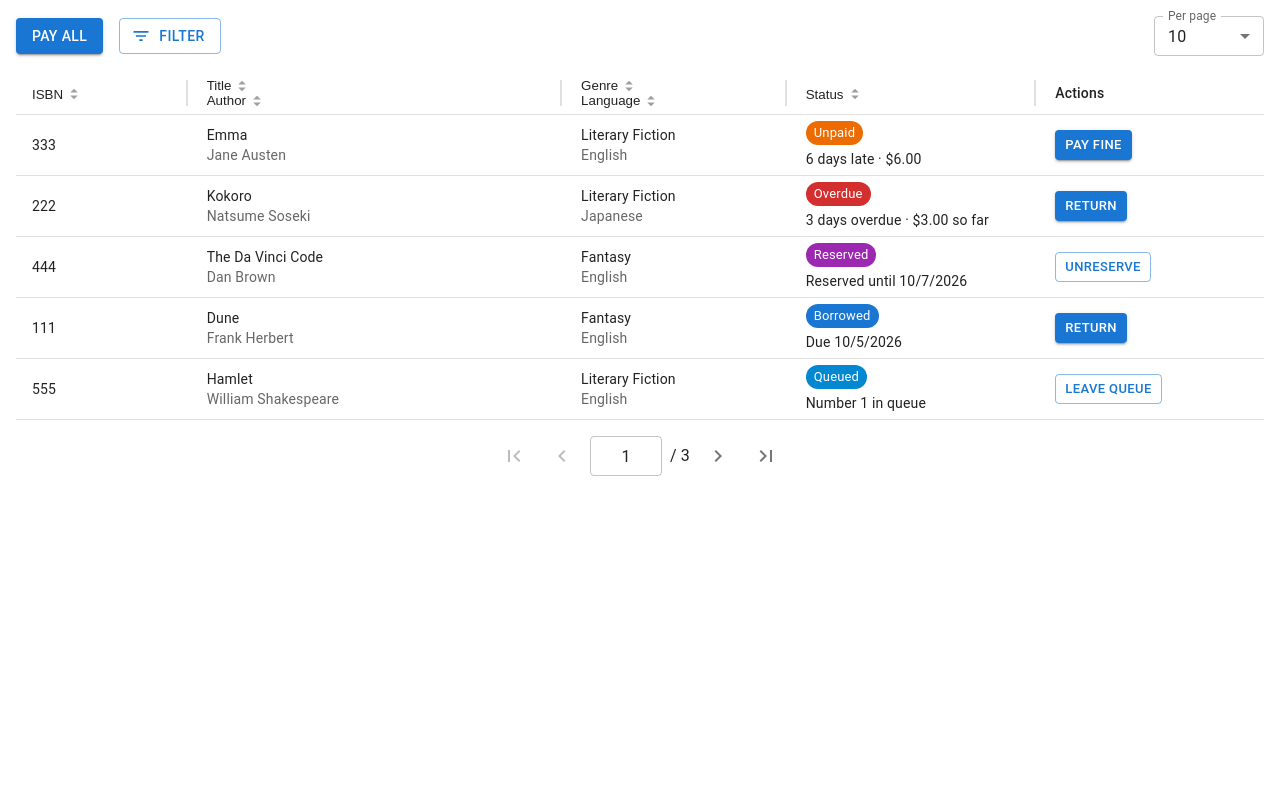
Test case: ReturnPage › leaves the queue after confirming and reloads the list
The image size is (1280, 800).
Click the button with test id "return-unreserve-5" at (1108, 389), box left=1055, top=374, right=1162, bottom=404
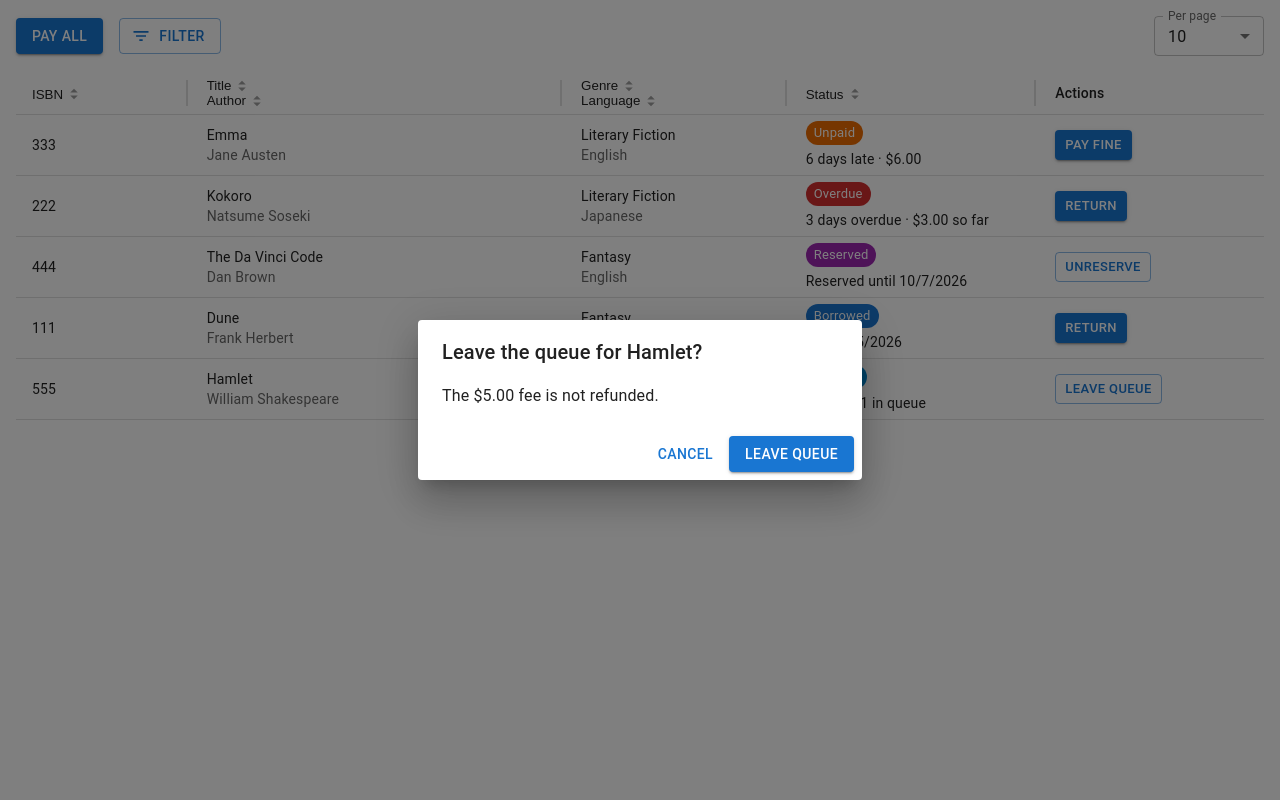
Now the element with test id "return-confirm-dialog" shows "Leave the queue for Hamlet?", box left=442, top=340, right=702, bottom=364
Now the element with test id "return-confirm-dialog" shows "The $5.00 fee is not refunded.", box left=442, top=386, right=659, bottom=405
Now the button with test id "return-confirm-confirm" reads "Leave queue"
Click the button with test id "return-confirm-confirm" at (792, 454), box left=729, top=436, right=854, bottom=472
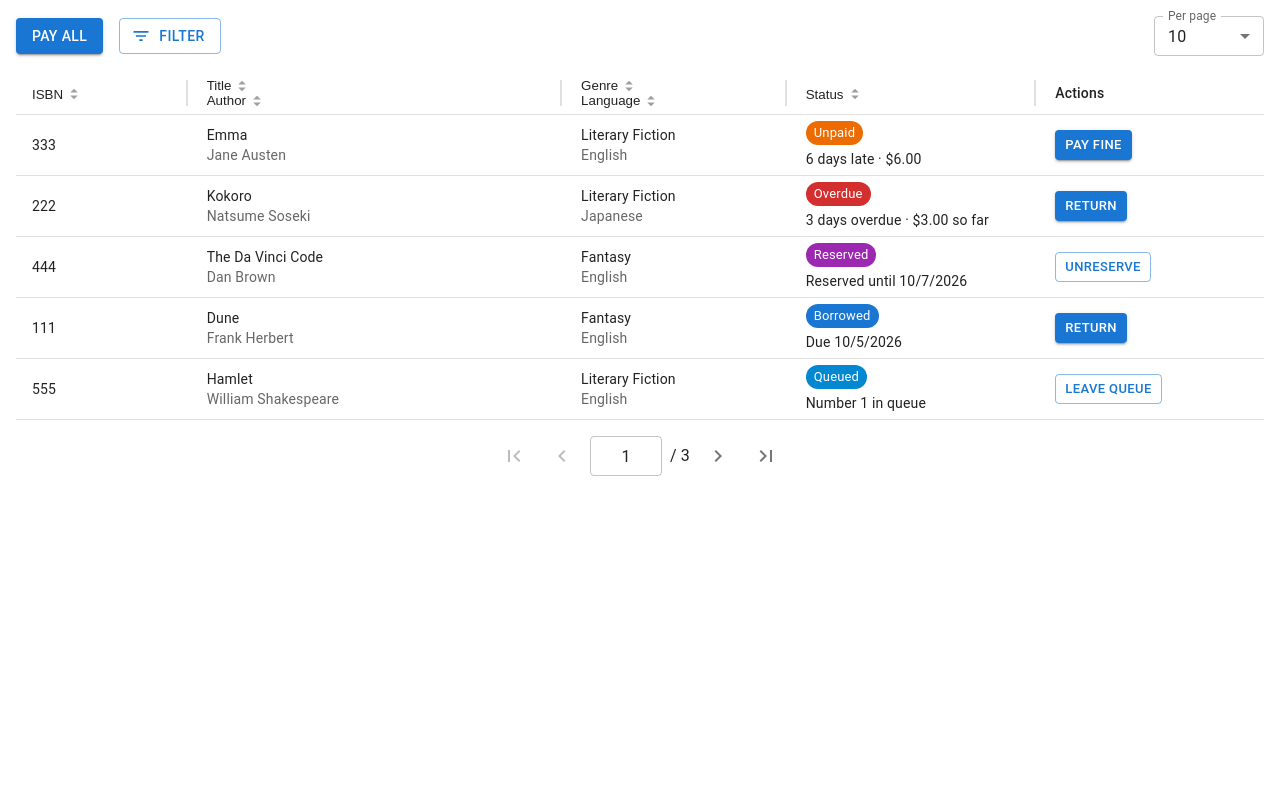
Now the element with test id "return-confirm-dialog" is gone
